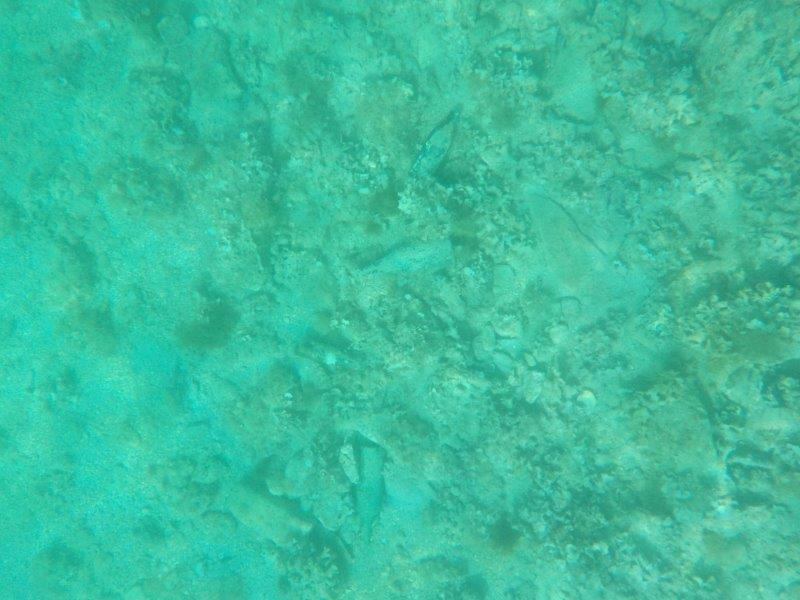bottle: (346, 232, 458, 284), (407, 103, 464, 184), (351, 439, 389, 545)
